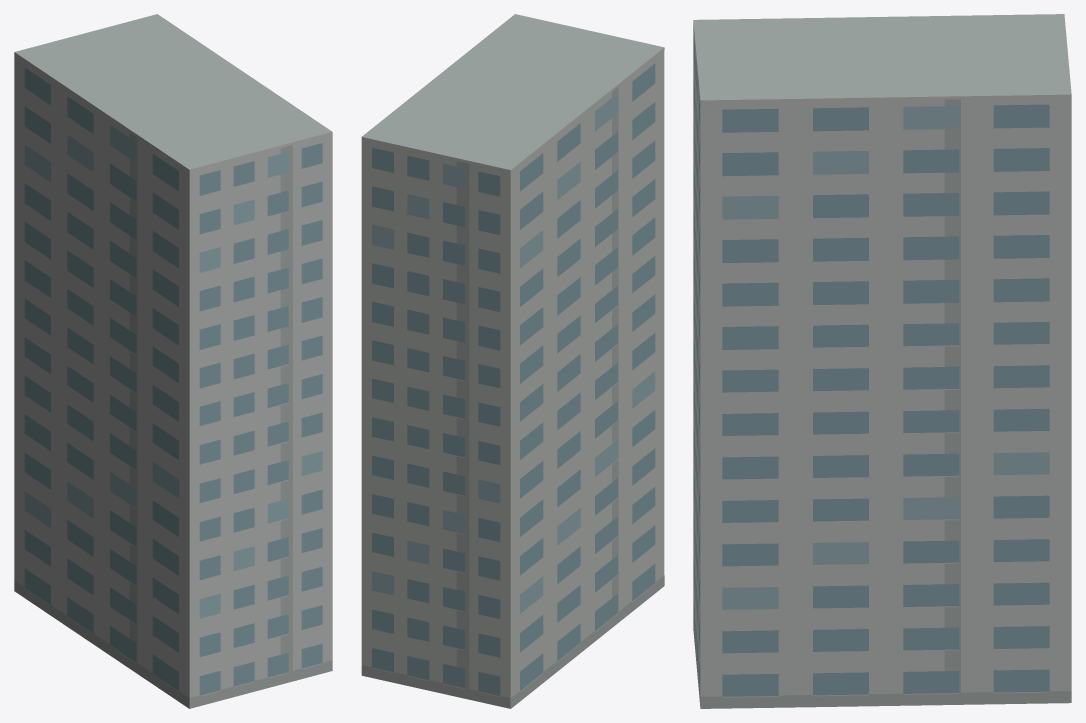
The model's file is residential-e8b6dfdc-d523-4c1b-a031-7a5cb86b07e6.glb.
The picture shows the model from 3 angles, left to right: view 1: azimuth 30°, elevation 25°; view 2: azimuth 150°, elevation 25°; view 3: azimuth 270°, elevation 25°; orthographic projection. The views are drawn at different scales.
Parts seen in each view (by area): view 1: residential-e8b6dfdc-d523-4c1b-a031-7a5cb86b07e6.tmp; view 2: residential-e8b6dfdc-d523-4c1b-a031-7a5cb86b07e6.tmp; view 3: residential-e8b6dfdc-d523-4c1b-a031-7a5cb86b07e6.tmp.
Part boxes in pixels (x1,y1,x2,y2): residential-e8b6dfdc-d523-4c1b-a031-7a5cb86b07e6.tmp: (14,14,332,708); residential-e8b6dfdc-d523-4c1b-a031-7a5cb86b07e6.tmp: (361,14,664,708); residential-e8b6dfdc-d523-4c1b-a031-7a5cb86b07e6.tmp: (693,14,1071,708).
Size of the model in its own units: 14.93 by 49 by 27.62.
